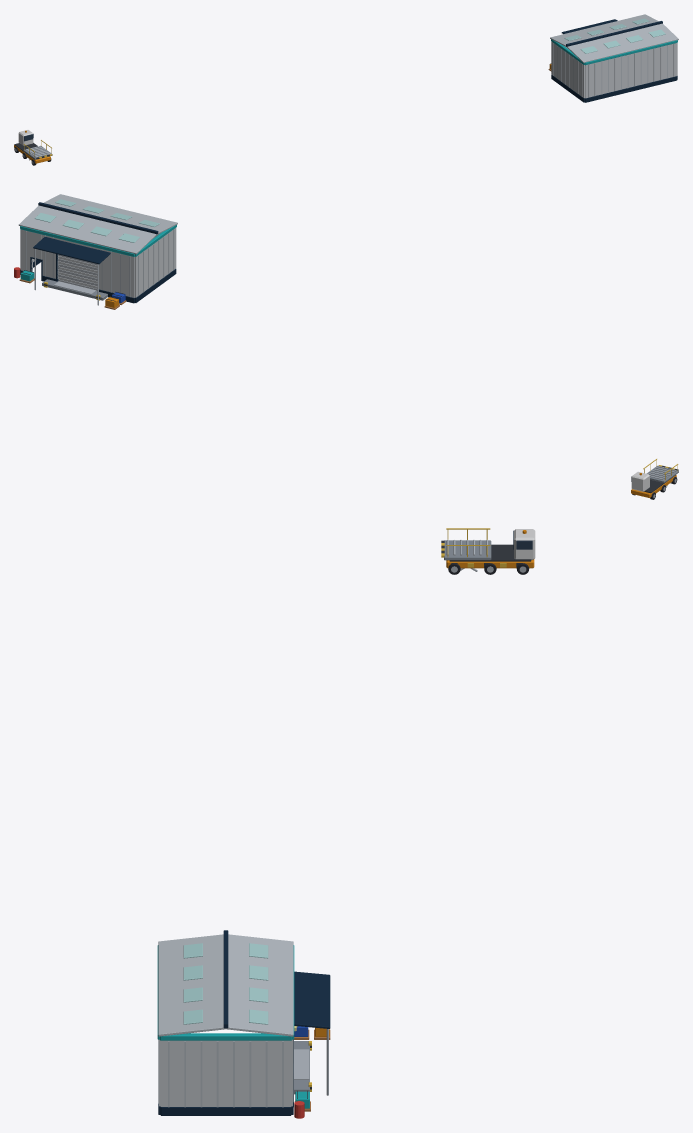
The model's file is skyport-cargo.glb.
3 renders of one model, top to bottom at view 1: azimuth 30°, elevation 25°; view 2: azimuth 150°, elevation 25°; view 3: azimuth 270°, elevation 25°, orthographic. The views are drawn at different scales.
Visible parts, largest first — view 1: sp_cargoshed_mesh, sp_kloader_mesh, sp_kloader_platform_mesh; view 2: sp_cargoshed_mesh, sp_cargoshed_shutter_mesh, sp_kloader_mesh; view 3: sp_cargoshed_mesh, sp_kloader_mesh, sp_kloader_platform_mesh.
Boxes of the visible parts, x1=… form: sp_cargoshed_mesh: x1=548, y1=14, x2=678, y2=102; sp_kloader_mesh: x1=14, y1=130, x2=51, y2=165; sp_kloader_platform_mesh: x1=23, y1=140, x2=52, y2=159; sp_cargoshed_mesh: x1=14, y1=194, x2=177, y2=309; sp_cargoshed_shutter_mesh: x1=58, y1=254, x2=97, y2=290; sp_kloader_mesh: x1=631, y1=471, x2=677, y2=499; sp_cargoshed_mesh: x1=157, y1=930, x2=330, y2=1118; sp_kloader_mesh: x1=446, y1=529, x2=535, y2=574; sp_kloader_platform_mesh: x1=441, y1=528, x2=491, y2=560.
Bounding box in the file's own units: 81.26 × 6.3 × 23.13.
